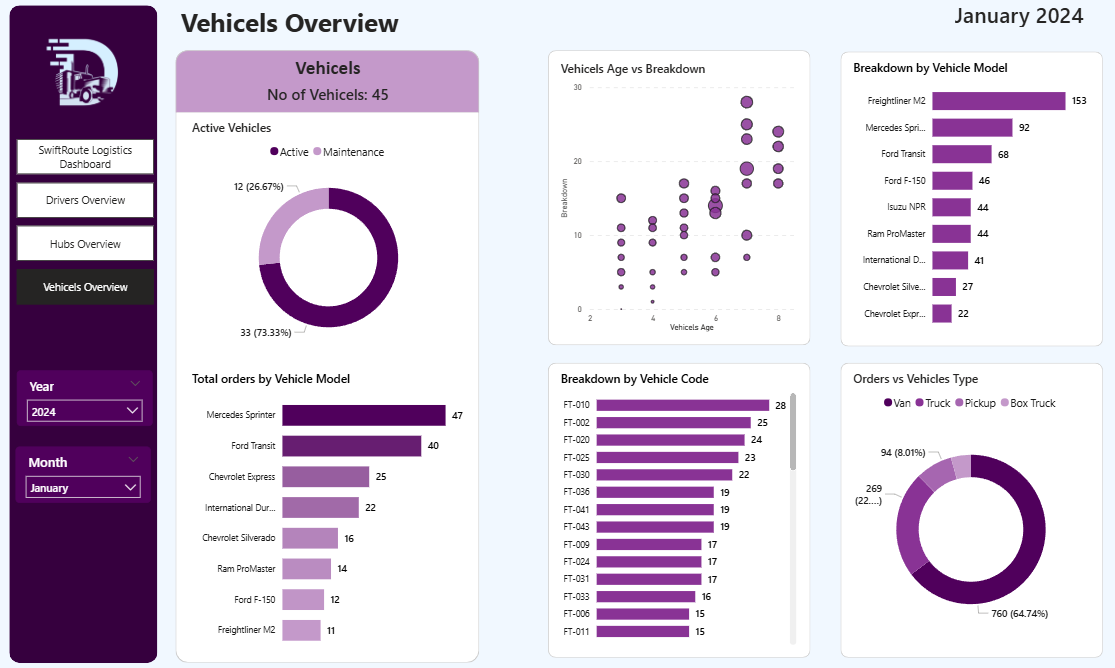

The dashboard page shown, as its layout file describes it:
{"tool":"powerbi","page":{"name":"Vehicels Overview","canvas":[1450,850],"ordinal":3},"visuals":[{"type":"shape","box":[14,14,185,820.8],"z":0},{"type":"textbox","box":[222.6,7.8,499.6,62.4],"z":1000},{"type":"slicer","fields":{"Values":["Date Table.Year"]},"box":[23.2,468.9,169.4,70],"z":2000},{"type":"slicer","fields":{"Values":["Date Table.Month"]},"box":[21.8,563.8,168.6,70.3],"z":3000},{"type":"image","box":[38.9,46.6,133.7,108.8],"z":4000},{"type":"cardVisual","fields":{"Data":["Orders.Year Month Title"]},"box":[1158.1,3.1,231.6,43.5],"z":5000},{"type":"shape","box":[686.2,70.2,327.5,368],"z":6000},{"type":"shape","box":[221.4,70.2,379,764.1],"z":6001},{"type":"shape","box":[221.4,70.2,379,78],"z":6002},{"type":"textbox","box":[343.1,71.7,137.2,51.5],"z":6003},{"type":"cardVisual","fields":{"Data":["Vehicles.No of Vehicels"]},"box":[302.5,101.4,218.3,43.7],"z":6004},{"type":"donutChart","title":"Active Vehicles ","fields":{"Category":["Vehicles.Vehicle Status"],"Y":["CountNonNull(Vehicles.Vehicle ID)"]},"box":[237,155.9,350.9,296.3],"z":6005},{"type":"barChart","fields":{"Category":["Vehicles.Vehicle Model"],"Y":["Orders.Total orders"]},"box":[237,469.4,350.9,358.7],"z":6006},{"type":"shape","box":[1051.1,71.7,327.5,368],"z":6007},{"type":"scatterChart","title":"Vehicels Age vs Breakdown","fields":{"Y":["Vehicles.Breakdown"],"X":["Vehicles.Vehicels Age"],"Size":["Sum(Vehicles.Breakdown)"]},"box":[697.1,82.7,304.1,343.1],"z":6008},{"type":"shape","box":[1051.1,460,327.5,368],"z":6009},{"type":"shape","box":[686.2,460,327.5,368],"z":6010},{"type":"barChart","title":"Breakdown by Vehicle Code","fields":{"Category":["Vehicles.Vehicle Code"],"Y":["Sum(Vehicles.Breakdown)"]},"box":[697.1,469.4,304.1,347.8],"z":6011},{"type":"barChart","title":"Breakdown by Vehicle  Model","fields":{"Y":["Sum(Vehicles.Breakdown)"],"Category":["Vehicles.Vehicle Model"]},"box":[1062,81.1,304.1,347.8],"z":6012},{"type":"donutChart","title":"Orders vs Vehicles Type ","fields":{"Category":["Orders.Vehicle Type"],"Y":["Orders.Total orders"]},"box":[1062,469.4,304.1,347.8],"z":6013},{"type":"pageNavigator","box":[23.4,180.9,171.5,209],"z":6014}]}

Visuals, with their boxes in screenshot pixels (x1, y1, x2, y2), scaled from the page's 1450x850 canvas onto the 1115x668 screenshot:
shape: [11,11,153,656]
textbox: [171,6,555,55]
slicer - Date Table.Year: [18,369,148,424]
slicer - Date Table.Month: [17,443,146,498]
image: [30,37,133,122]
cardVisual - Orders.Year Month Title: [891,2,1069,37]
shape: [528,55,780,344]
shape: [170,55,462,656]
shape: [170,55,462,116]
textbox: [264,56,369,97]
cardVisual - Vehicles.No of Vehicels: [233,80,400,114]
"Active Vehicles " donutChart: [182,123,452,355]
barChart - Vehicles.Vehicle Model x Orders.Total orders: [182,369,452,651]
shape: [808,56,1060,346]
"Vehicels Age vs Breakdown" scatterChart: [536,65,770,335]
shape: [808,362,1060,651]
shape: [528,362,780,651]
"Breakdown by Vehicle Code" barChart: [536,369,770,642]
"Breakdown by Vehicle  Model" barChart: [817,64,1050,337]
"Orders vs Vehicles Type " donutChart: [817,369,1050,642]
pageNavigator: [18,142,150,306]
